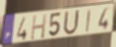4: (16, 16, 28, 41), (98, 6, 110, 31)
5: (49, 11, 63, 38)
H: (29, 13, 47, 41)
I: (85, 9, 92, 34)
U: (62, 9, 81, 36)
